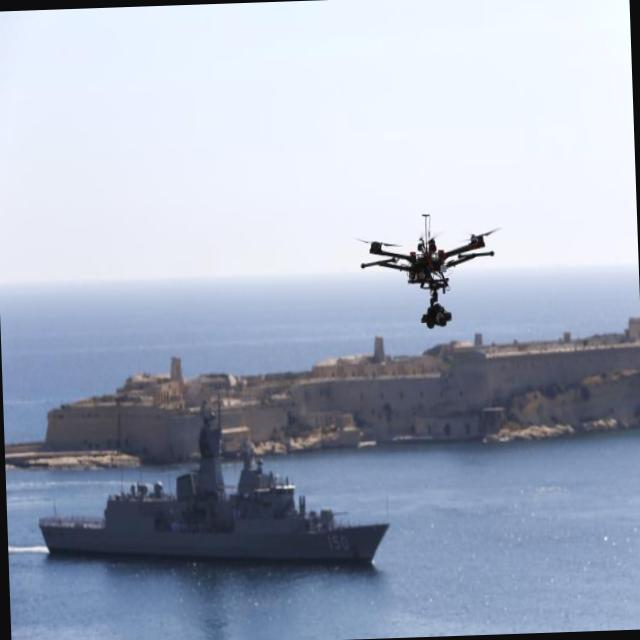drone: (343, 206, 508, 332)
